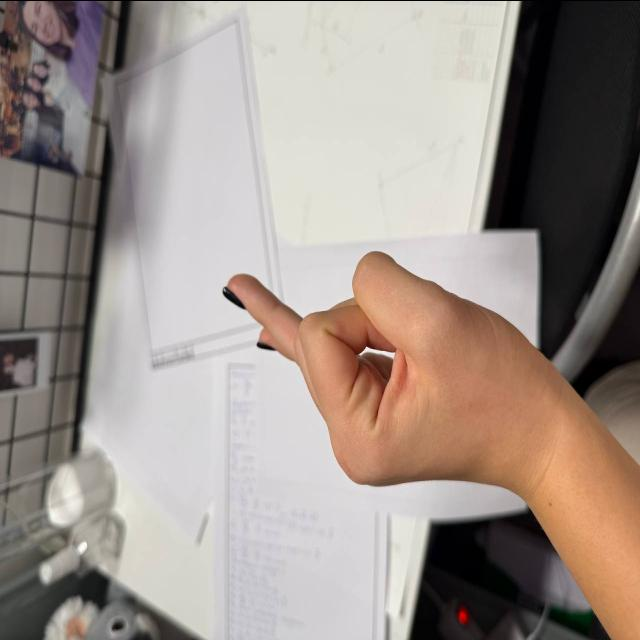i-: (213, 218, 515, 496)
